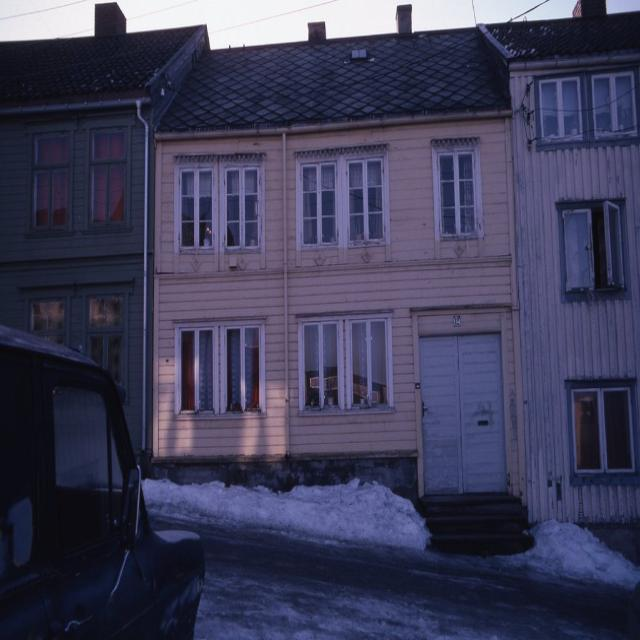door_local: (415, 313, 513, 500)
